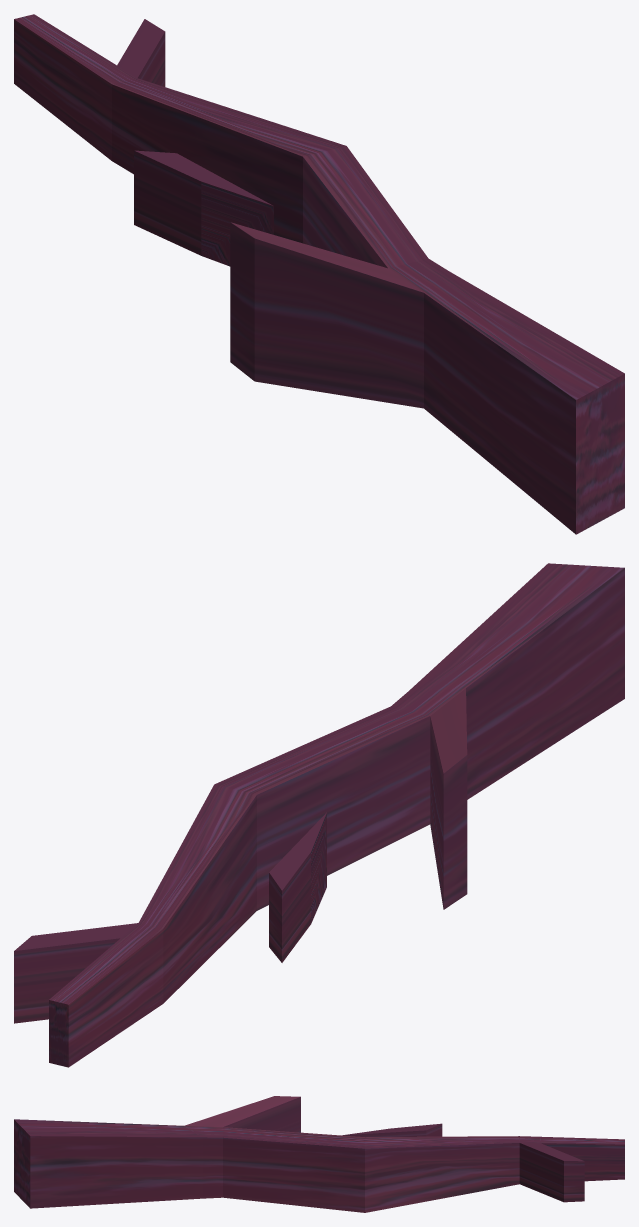
Rendered from branchbits2.fbx.
The picture shows the model from 3 angles, top to bottom: view 1: azimuth 30°, elevation 25°; view 2: azimuth 150°, elevation 25°; view 3: azimuth 270°, elevation 25°; orthographic projection. The views are drawn at different scales.
Parts seen in each view (by area): view 1: branchbits2; view 2: branchbits2; view 3: branchbits2.
Part boxes in pixels (x1,y1,x2,y2): branchbits2: (14, 14, 624, 534); branchbits2: (14, 563, 624, 1067); branchbits2: (14, 1096, 624, 1212).
Bounding box in the file's own units: 0.1043 × 0.0796 × 0.5718.
